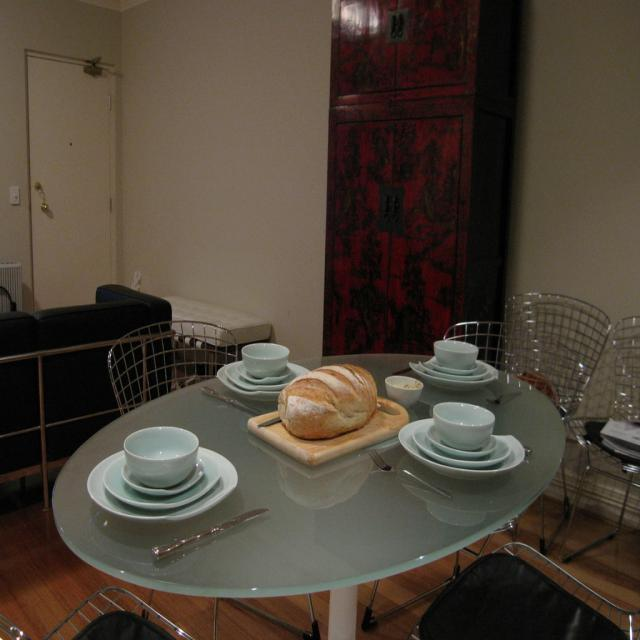non-organic waste: (118, 416, 203, 492), (432, 393, 502, 449)
